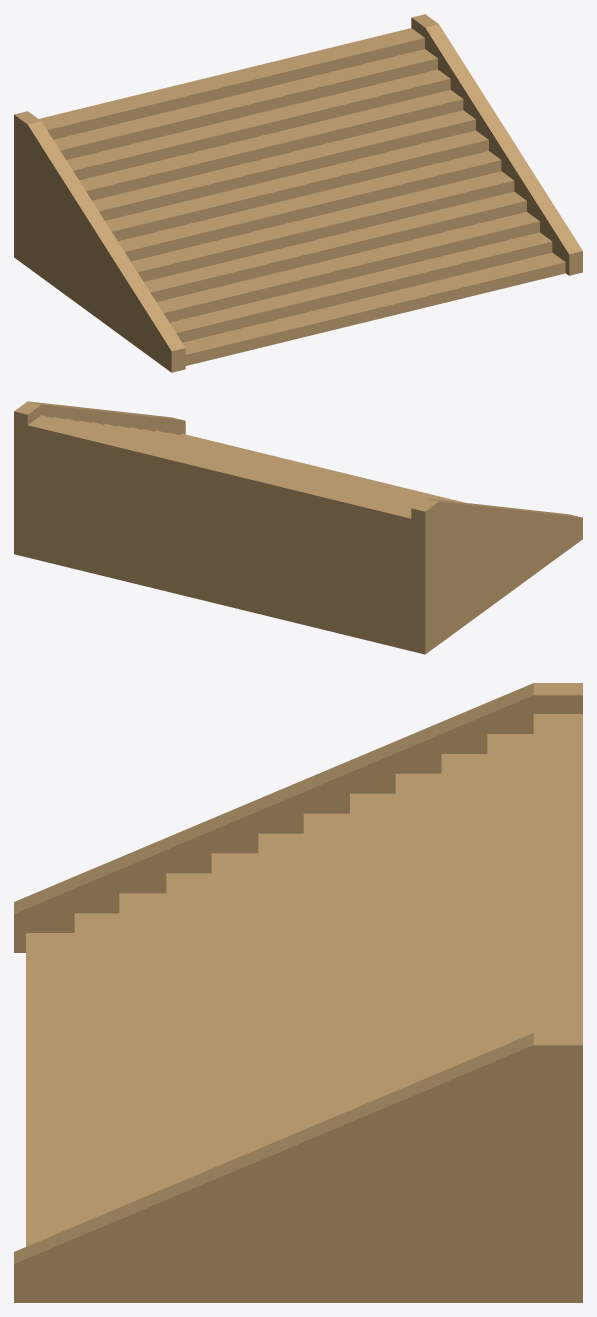
Rendered from RuinsStairsMed.fbx.
3 renders of one model, top to bottom at view 1: azimuth 30°, elevation 25°; view 2: azimuth 150°, elevation 25°; view 3: azimuth 270°, elevation 25°, orthographic. The views are drawn at different scales.
Parts seen in each view (by area): view 1: sunPillarStairs.001; view 2: sunPillarStairs.001; view 3: sunPillarStairs.001.
Boxes of the visible parts, <box> form: sunPillarStairs.001: <box>14,14,582,372</box>; sunPillarStairs.001: <box>14,401,582,654</box>; sunPillarStairs.001: <box>14,683,582,1302</box>.
Bounding box in the file's own units: 650 × 216 × 432.
